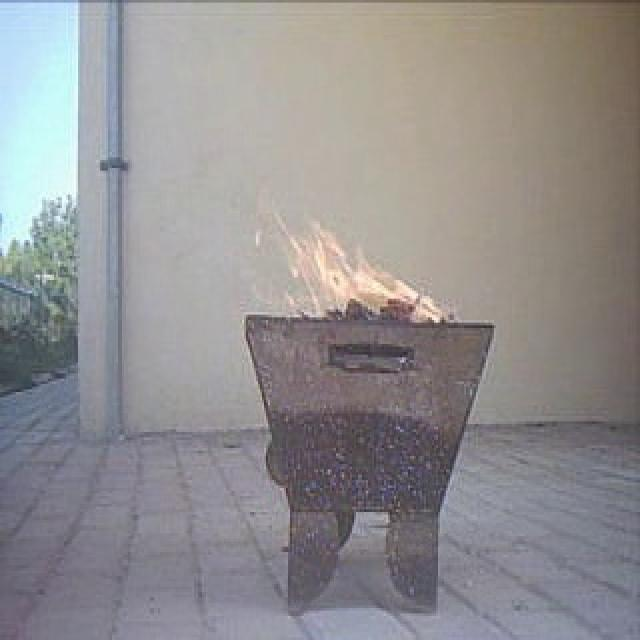fire: (277, 223, 446, 323)
